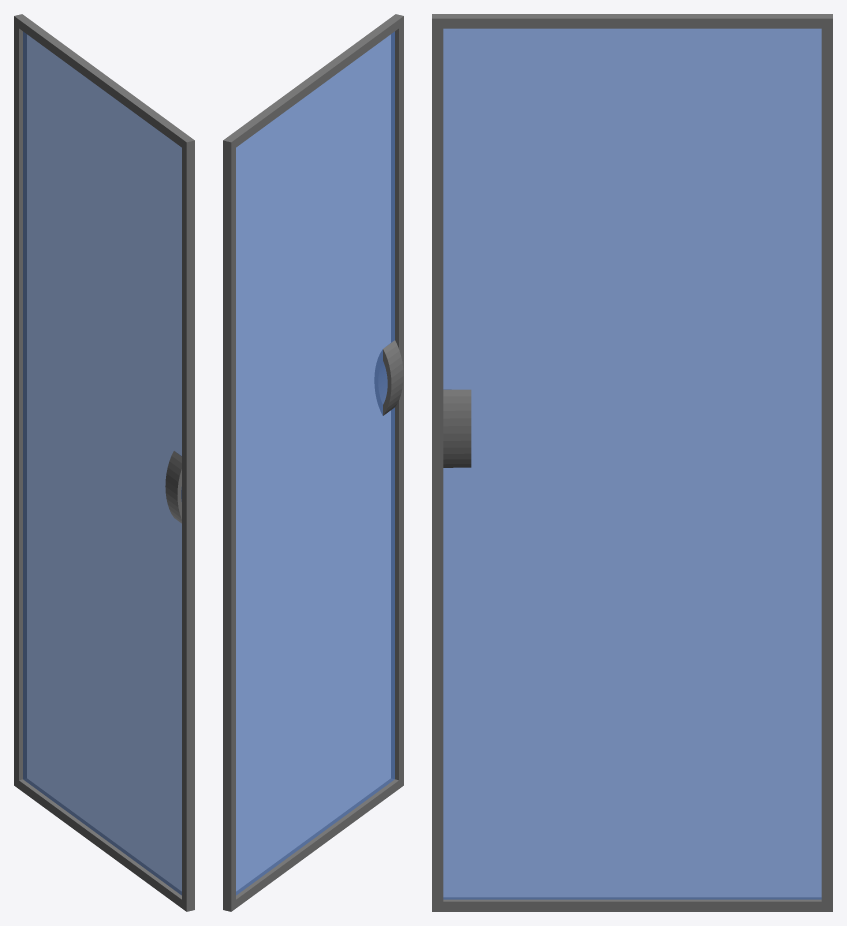
The model's file is GlassesDoor.dae.
3 views of the same model, side by side, from view 1: azimuth 30°, elevation 25°; view 2: azimuth 150°, elevation 25°; view 3: azimuth 270°, elevation 25° (orthographic). The views are drawn at different scales.
Visible parts, largest first — view 1: SketchUp (×3); view 2: SketchUp (×3); view 3: SketchUp (×3).
Part boxes in pixels (x1=…): SketchUp (×3): x1=14, y1=14, x2=194, y2=911; SketchUp (×3): x1=223, y1=14, x2=403, y2=911; SketchUp (×3): x1=432, y1=14, x2=832, y2=911.
Bounding box in the file's own units: 1.86 × 31.88 × 78.38.
